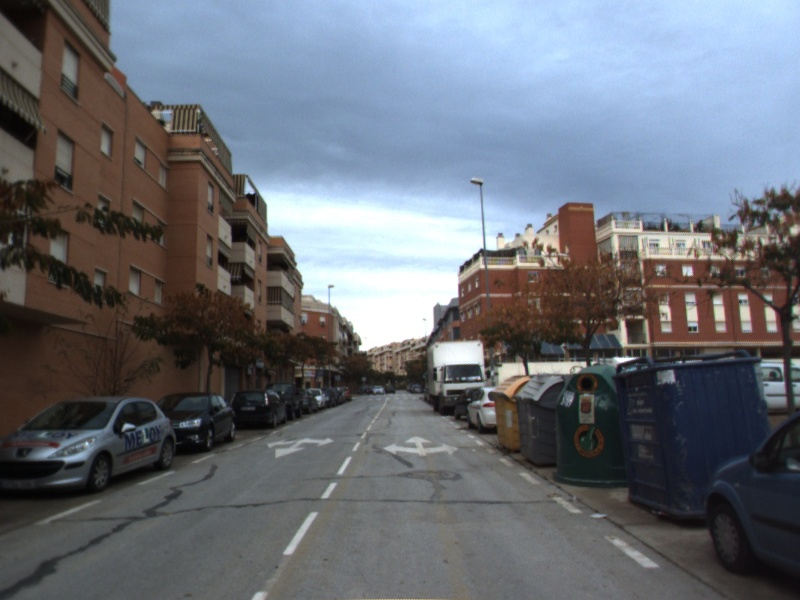STRAIGHT_LEFT_RIGHT: (381, 434, 461, 458)
